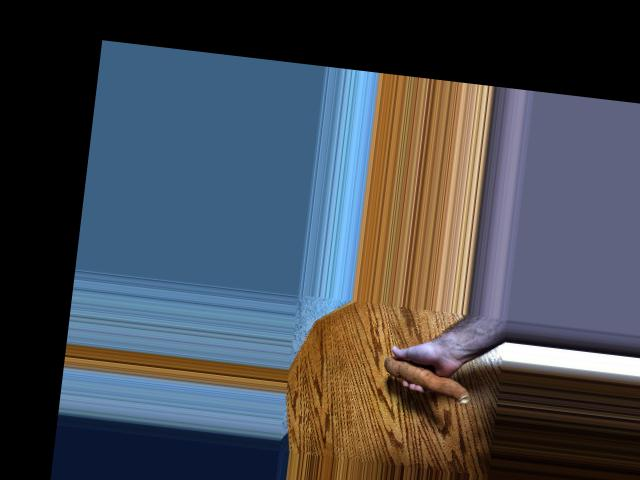sweet_potato: (380, 356, 473, 390)
